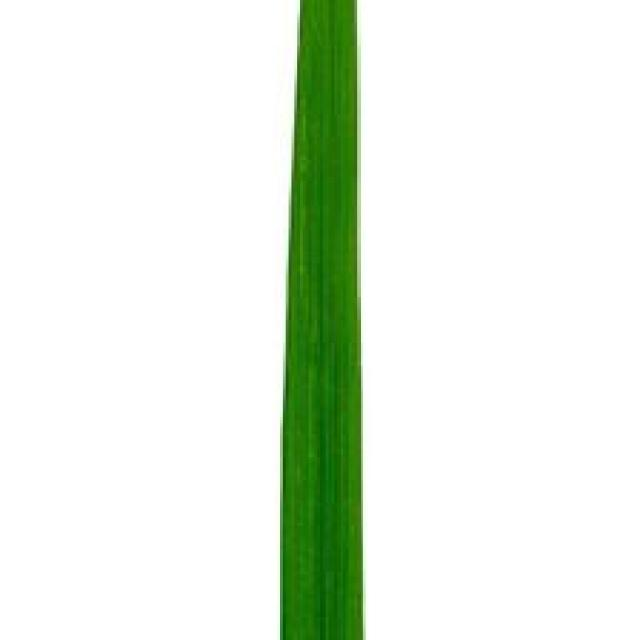Rice___Healthy_Rice_Plant: (280, 0, 366, 637)
